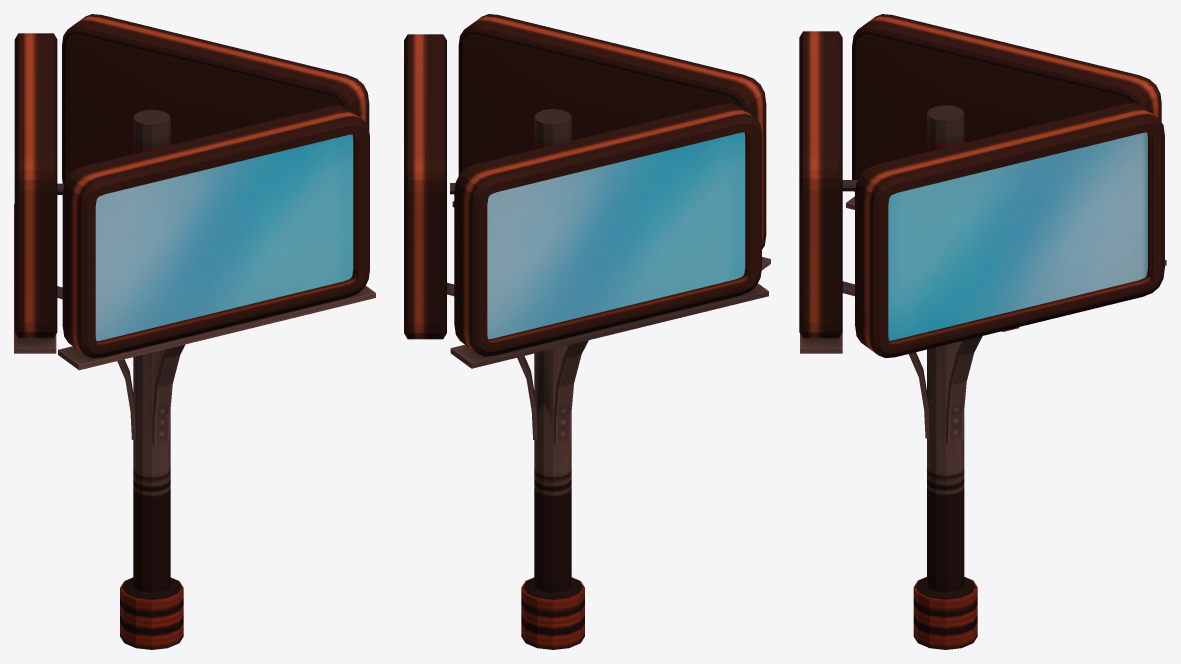
Rendered from Advertising_Pole_04.FBX.
3 views of the same model, side by side, from view 1: azimuth 30°, elevation 25°; view 2: azimuth 150°, elevation 25°; view 3: azimuth 270°, elevation 25° (orthographic).
Parts seen in each view (by area): view 1: Advertising_Pole_04; view 2: Advertising_Pole_04; view 3: Advertising_Pole_04.
Boxes of the visible parts, box(x1,y1,x2,y2) form: Advertising_Pole_04: box(14, 14, 375, 649); Advertising_Pole_04: box(404, 14, 770, 649); Advertising_Pole_04: box(799, 14, 1166, 649).
Bounding box in the file's own units: 82.71 × 119 × 72.85.
